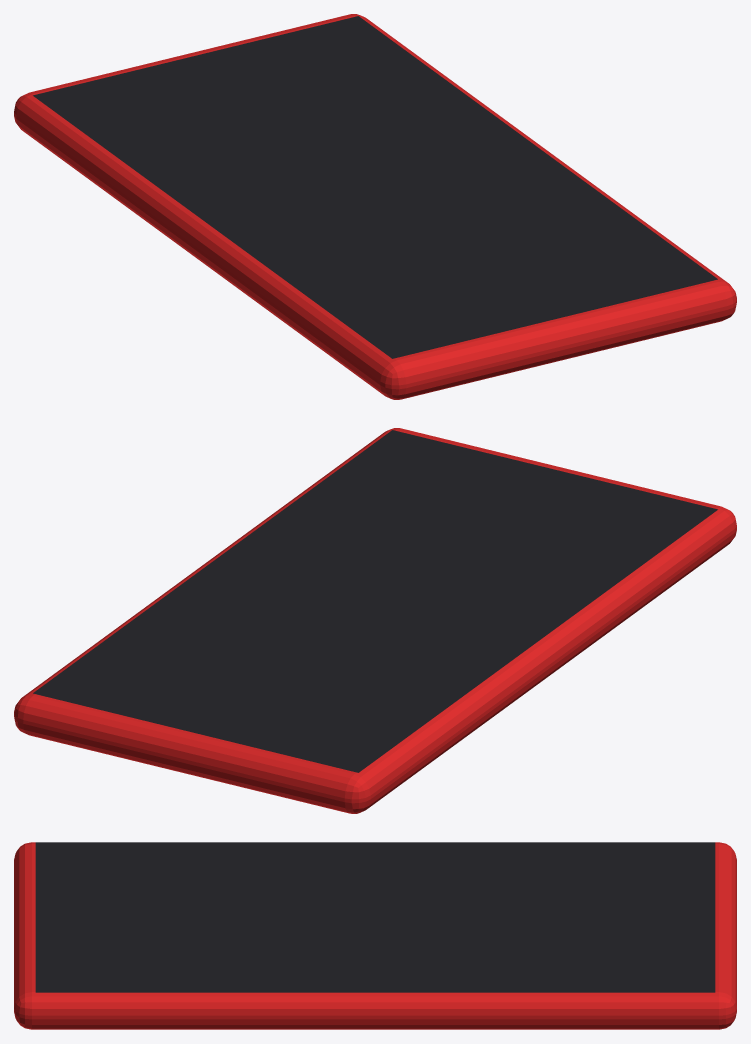
The model's file is Phone_382.glb.
3 views of the same model, one above another, from view 1: azimuth 30°, elevation 25°; view 2: azimuth 150°, elevation 25°; view 3: azimuth 270°, elevation 25° (orthographic). The views are drawn at different scales.
Parts seen in each view (by area): view 1: Phone_Screen, Phone_Body; view 2: Phone_Screen, Phone_Body; view 3: Phone_Screen, Phone_Body.
Part boxes in pixels (x1=…): Phone_Screen: x1=33, y1=16, x2=717, y2=358; Phone_Body: x1=14, y1=14, x2=736, y2=399; Phone_Screen: x1=33, y1=430, x2=717, y2=772; Phone_Body: x1=14, y1=428, x2=736, y2=813; Phone_Screen: x1=35, y1=842, x2=715, y2=992; Phone_Body: x1=14, y1=842, x2=736, y2=1029.
Bounding box in the file's own units: 0.0788 × 0.0082 × 0.1475.
